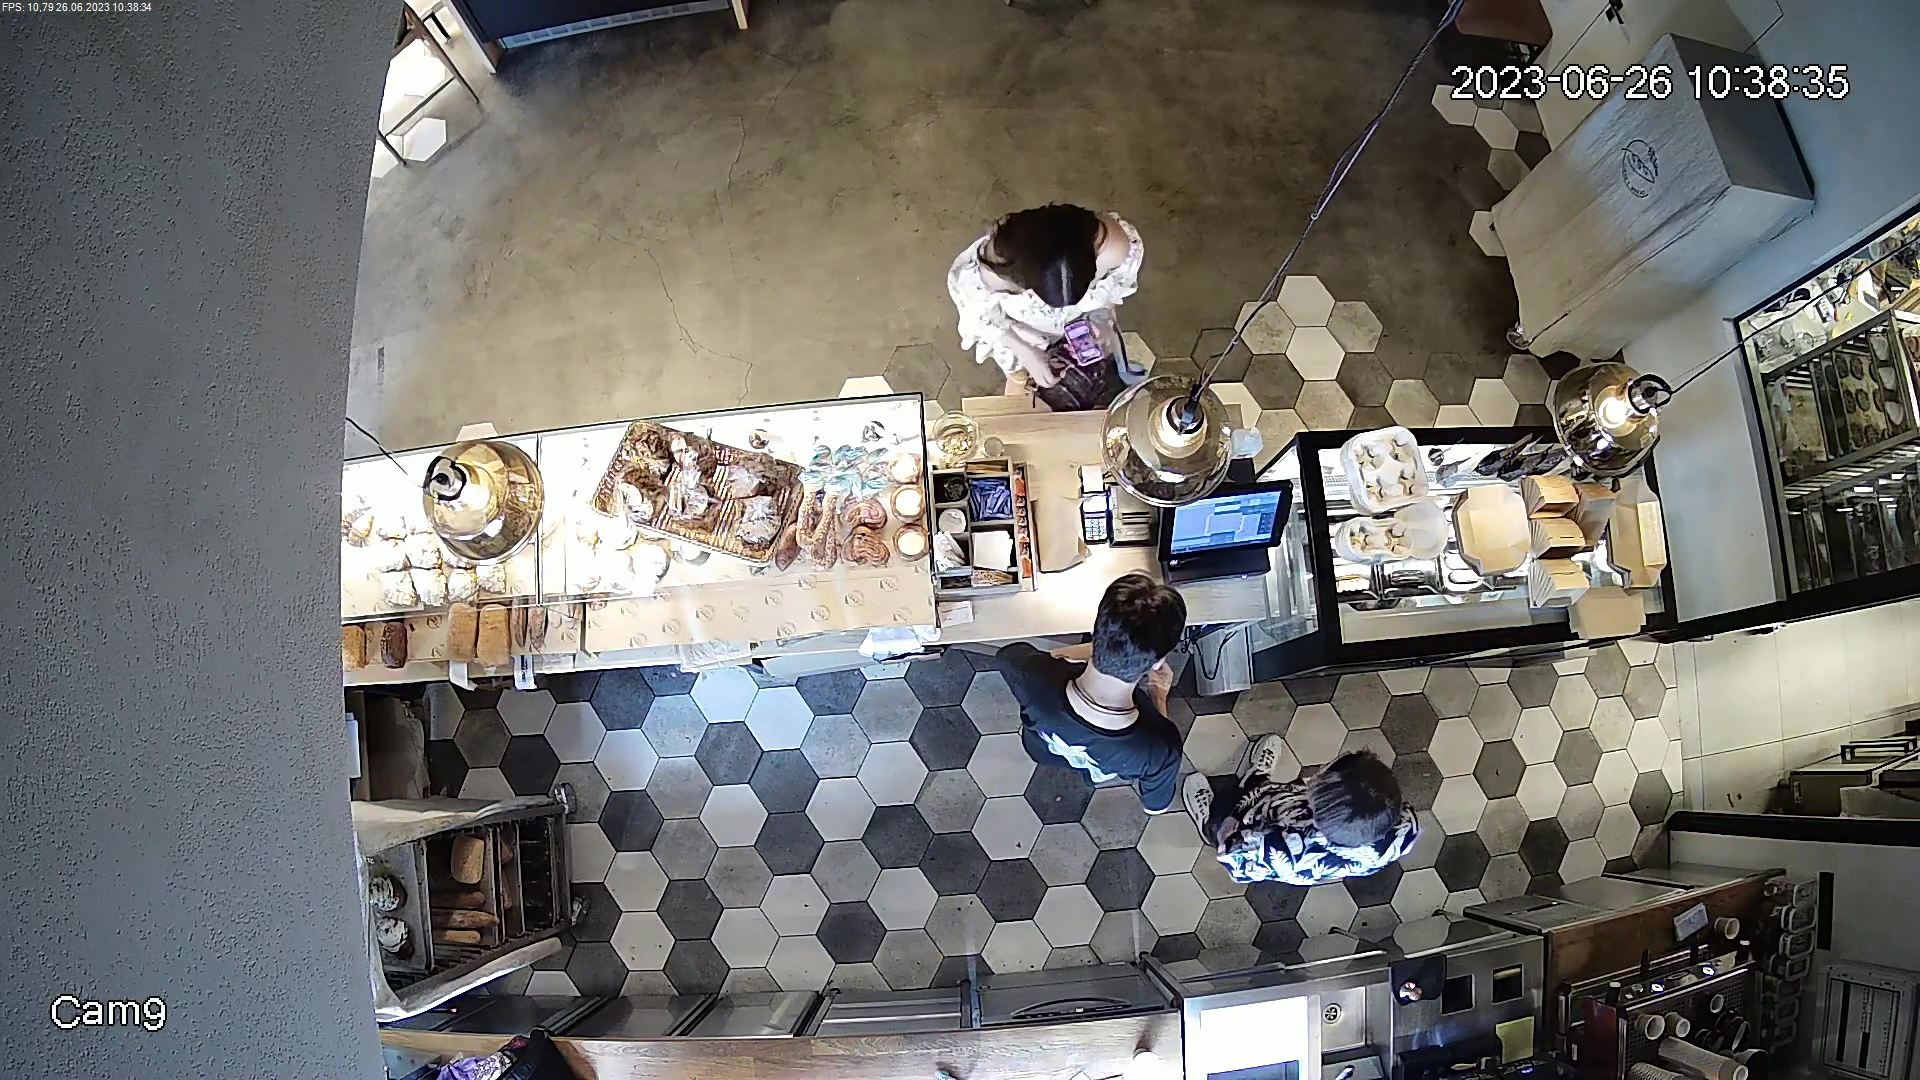pack: (1025, 496, 1093, 573)
person: (941, 193, 1151, 411)
